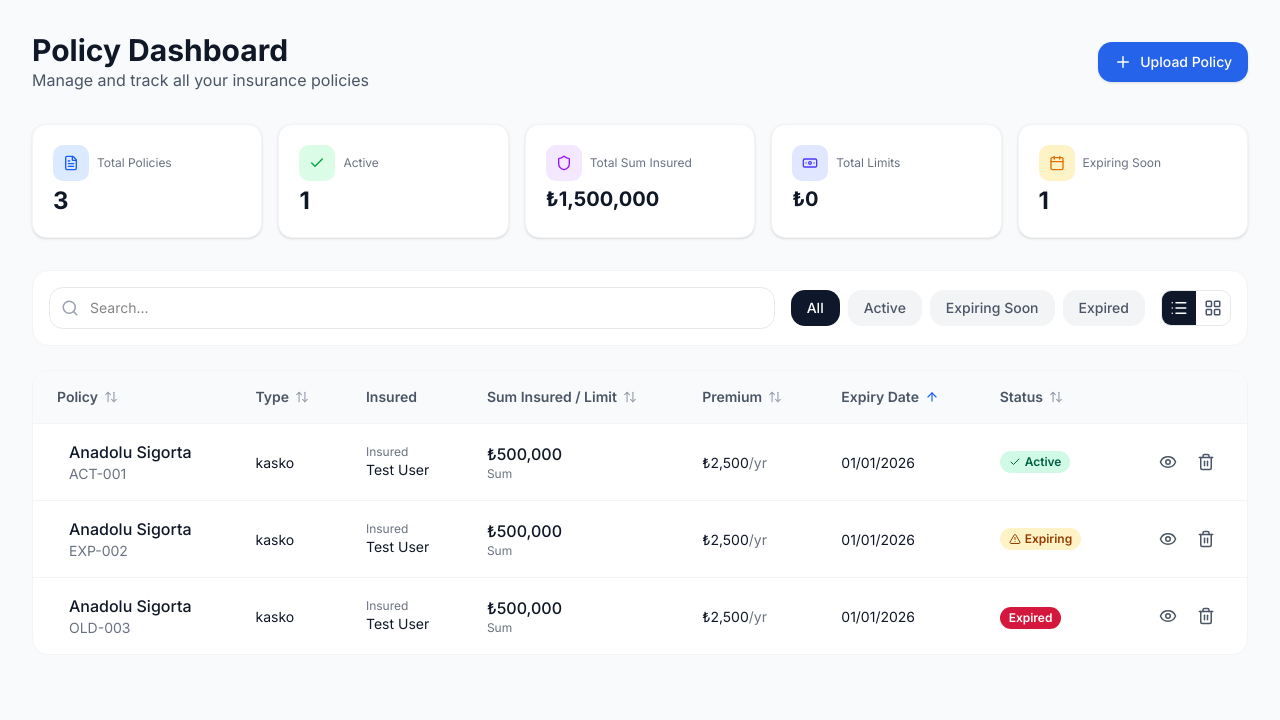
Scenario: PolicyDashboard Branch Coverage › Status filter › filters to expired only
Click the button "Expired".
click(1104, 308)  # box [1062,290,1145,326]
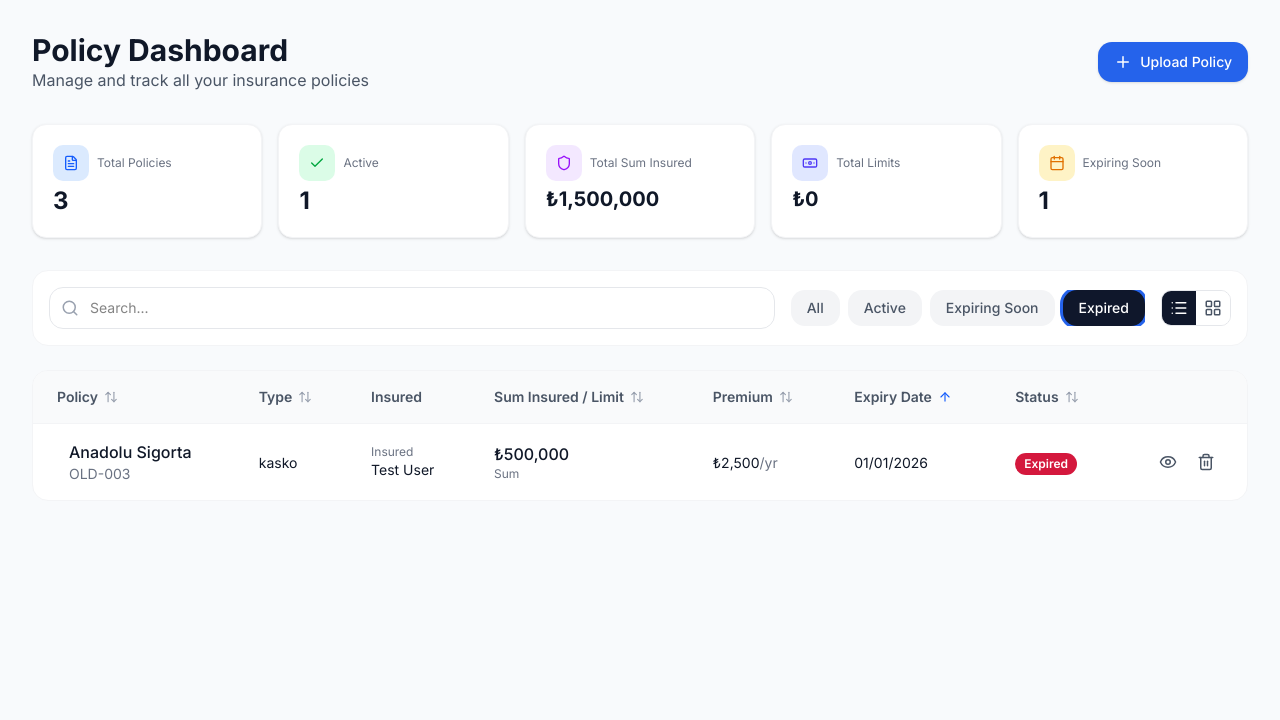
Expected: the text "OLD-003" is shown, [69,465,130,482]
Expected: the text "ACT-001" is gone
